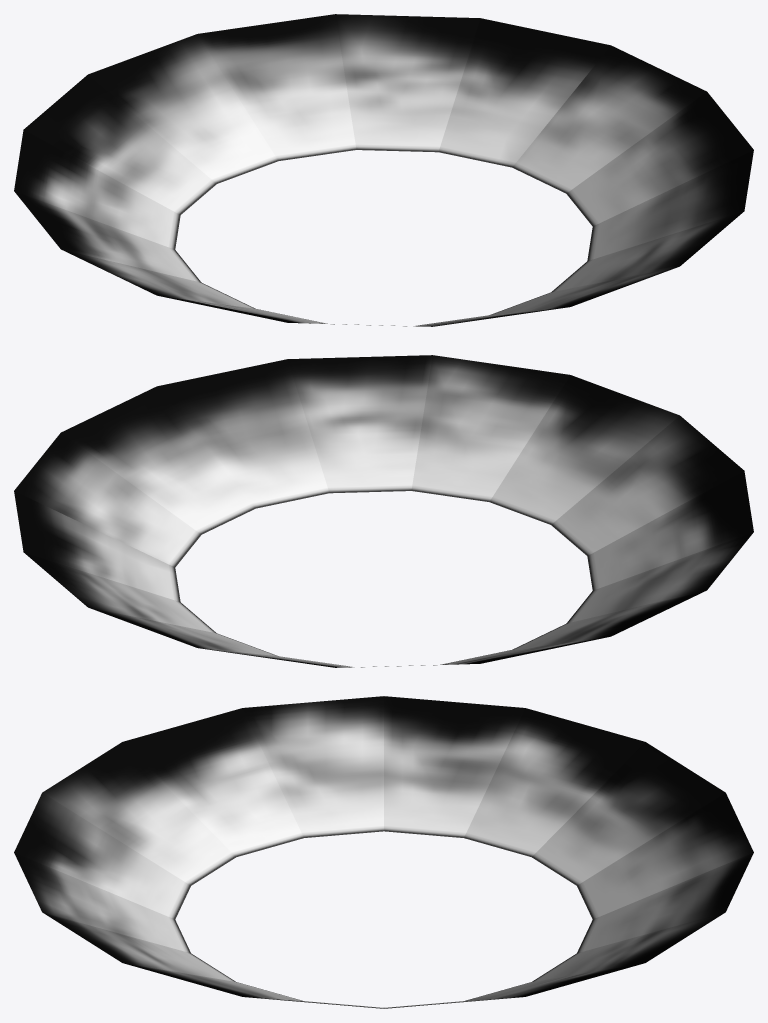
File: wave.FBX
3 views of the same model, one above another, from view 1: azimuth 30°, elevation 25°; view 2: azimuth 150°, elevation 25°; view 3: azimuth 270°, elevation 25° (orthographic).
Parts seen in each view (by area): view 1: Cylinder3_10050; view 2: Cylinder3_10050; view 3: Cylinder3_10050.
Part boxes in pixels (x1,y1,x2,y2): Cylinder3_10050: [14, 14, 753, 326]; Cylinder3_10050: [14, 355, 753, 667]; Cylinder3_10050: [14, 696, 753, 1008].
Size of the model in its own units: 401 by 40.09 by 401.
1 material, 1 textured.
